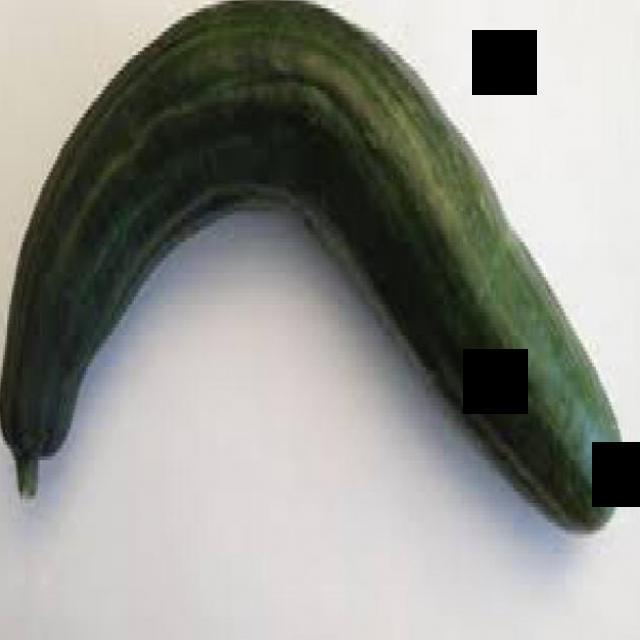cucumber: (1, 0, 626, 542)
